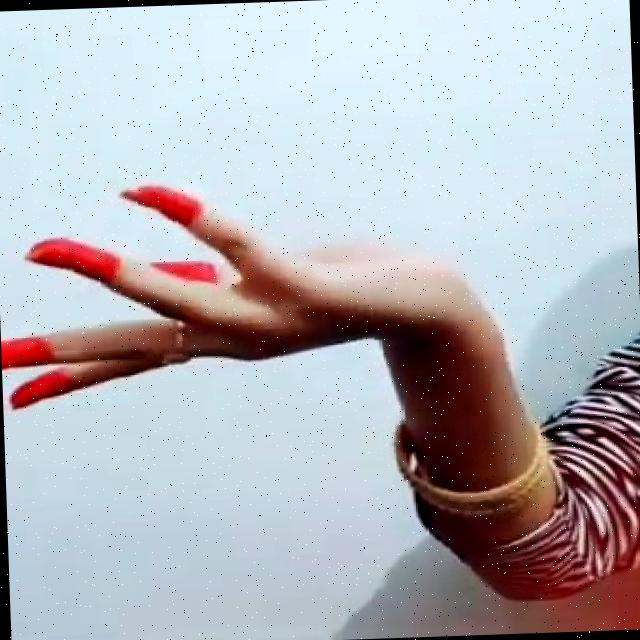Alapadma: (0, 146, 514, 435)
bangle: (366, 408, 568, 524)
